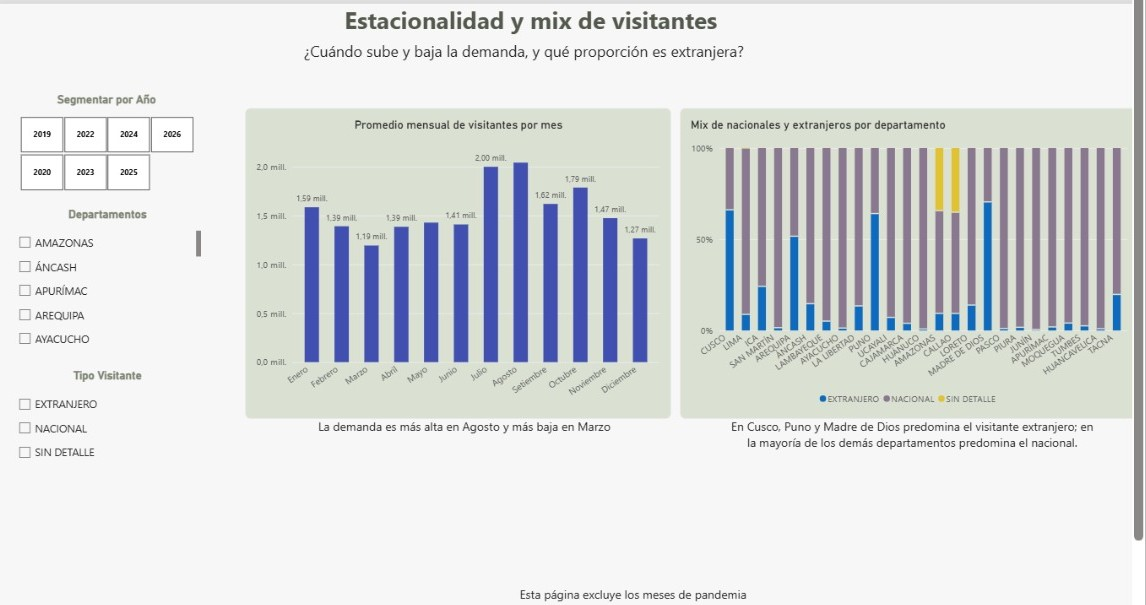

Layout of this report page (visuals, bound fields, positions):
{"tool":"powerbi","page":{"name":"Estacionalidad ","canvas":[1920,1080],"ordinal":2},"visuals":[{"type":"hundredPercentStackedColumnChart","title":"Mix de nacionales y extranjeros por departamento","fields":{"Category":["Visitantes_sitios_turisticos.DEPARTAMENTO"],"Series":["Visitantes_sitios_turisticos.TIPO_VISITANTE"],"Y":["Sum(Visitantes_sitios_turisticos.NUMERO_VISITANTES)"]},"box":[1083.3,165,723.3,490],"z":0},{"type":"textbox","box":[553.3,0,603.3,70],"z":1000},{"type":"textbox","box":[488.3,58.3,731.7,66.7],"z":2000},{"type":"slicer","title":"Segmentar por Año","fields":{"Values":["dim_fecha.Año"]},"box":[21.7,140,311.7,156.7],"z":3000},{"type":"slicer","title":"Departamentos","fields":{"Values":["dim_sitio.DEPARTAMENTO"]},"box":[31.7,321.7,295,235],"z":4000},{"type":"textbox","box":[830,920,361.7,55],"z":5000},{"type":"clusteredColumnChart","title":"Promedio mensual de visitantes por mes","fields":{"Category":["dim_fecha.Mes"],"Y":["Visitantes_sitios_turisticos.Promedio mensual"]},"box":[396.7,165,671.7,490],"z":6000},{"type":"textbox","box":[511.7,655,481.7,33.3],"z":7000},{"type":"slicer","title":"Tipo Visitante","fields":{"Values":["Visitantes_sitios_turisticos.TIPO_VISITANTE"]},"box":[31.7,576.7,295,156.7],"z":8000},{"type":"textbox","box":[1156.7,655,586,150],"z":9000}]}

Visuals, with their boxes on the page's 1920x1080 design canvas (x1, y1, x2, y2). These are canvas units, not pixel positions in the 1146x605 screenshot, which may show the page scaled, cropped or inside an application window:
"Mix de nacionales y extranjeros por departamento" hundredPercentStackedColumnChart: pyautogui.locateOnScreen(1083, 165, 1807, 655)
textbox: pyautogui.locateOnScreen(553, 0, 1157, 70)
textbox: pyautogui.locateOnScreen(488, 58, 1220, 125)
"Segmentar por Año" slicer: pyautogui.locateOnScreen(22, 140, 333, 297)
"Departamentos" slicer: pyautogui.locateOnScreen(32, 322, 327, 557)
textbox: pyautogui.locateOnScreen(830, 920, 1192, 975)
"Promedio mensual de visitantes por mes" clusteredColumnChart: pyautogui.locateOnScreen(397, 165, 1068, 655)
textbox: pyautogui.locateOnScreen(512, 655, 993, 688)
"Tipo Visitante" slicer: pyautogui.locateOnScreen(32, 577, 327, 733)
textbox: pyautogui.locateOnScreen(1157, 655, 1743, 805)
